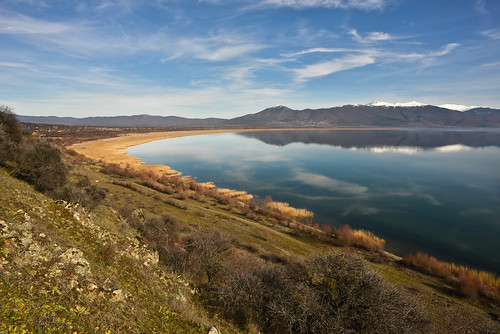mountain: (1, 94, 498, 133)
river: (128, 130, 500, 259)
sky: (1, 1, 495, 99)
